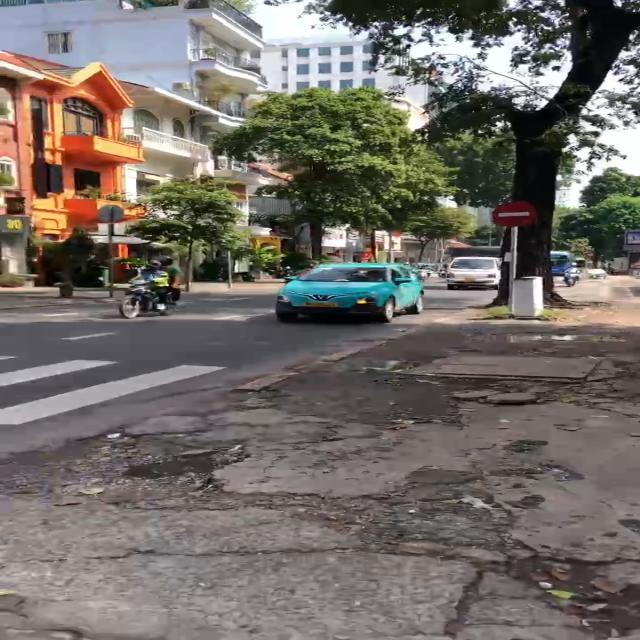Bien bao cam di nguoc chieu: (486, 201, 542, 232)
